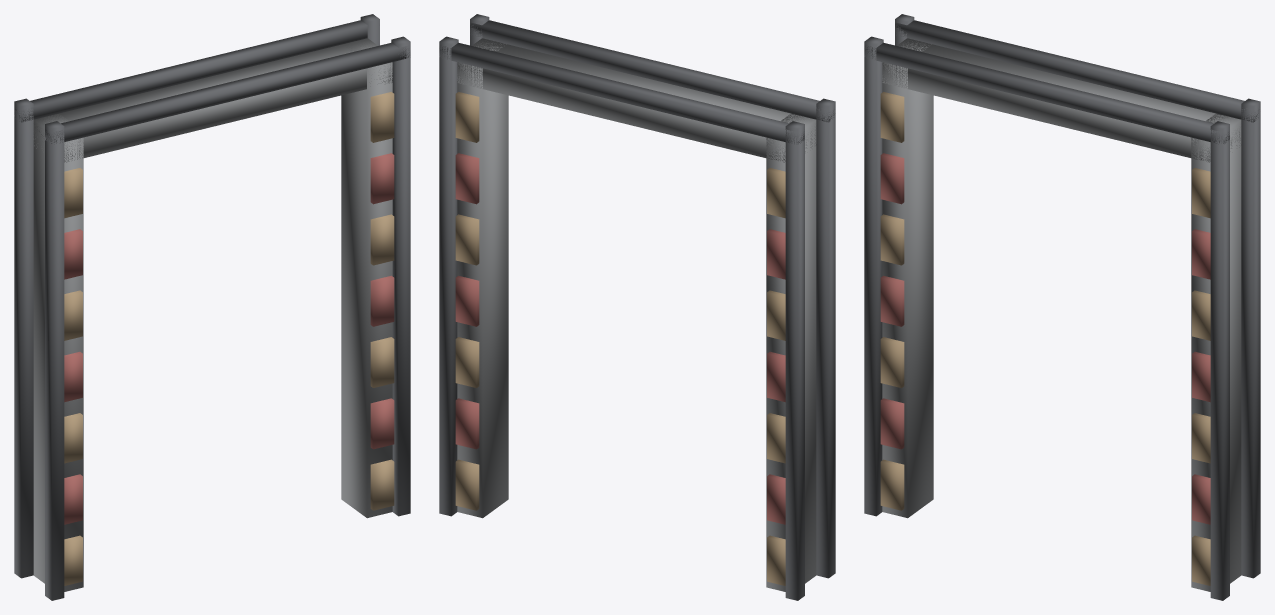
Rendered from doorway_brick_return_w152_h220_d24.glb.
3 renders of one model, left to right at view 1: azimuth 30°, elevation 25°; view 2: azimuth 150°, elevation 25°; view 3: azimuth 330°, elevation 25°, orthographic.
Parts seen in each view (by area): view 1: world; view 2: world; view 3: world.
Part boxes in pixels (x1,y1,x2,y2): world: (14, 14, 410, 600); world: (439, 14, 835, 600); world: (864, 14, 1260, 600).
Size of the model in its own units: 1.92 by 2.42 by 0.3516.
